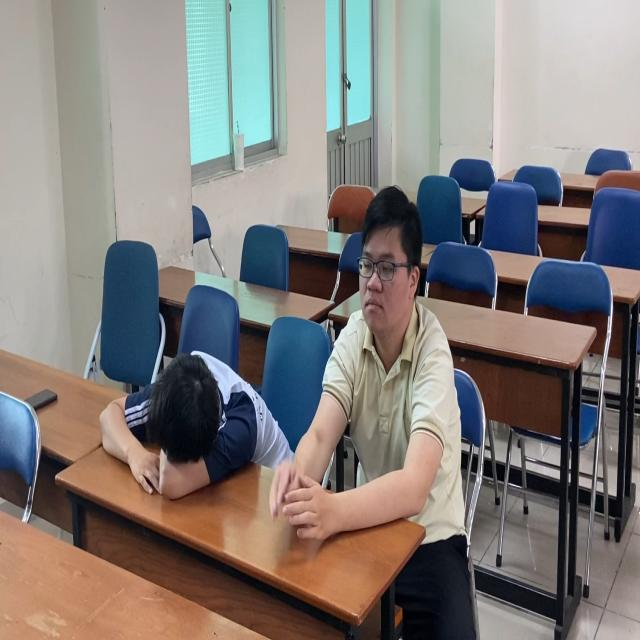sleep: (70, 289, 305, 522)
